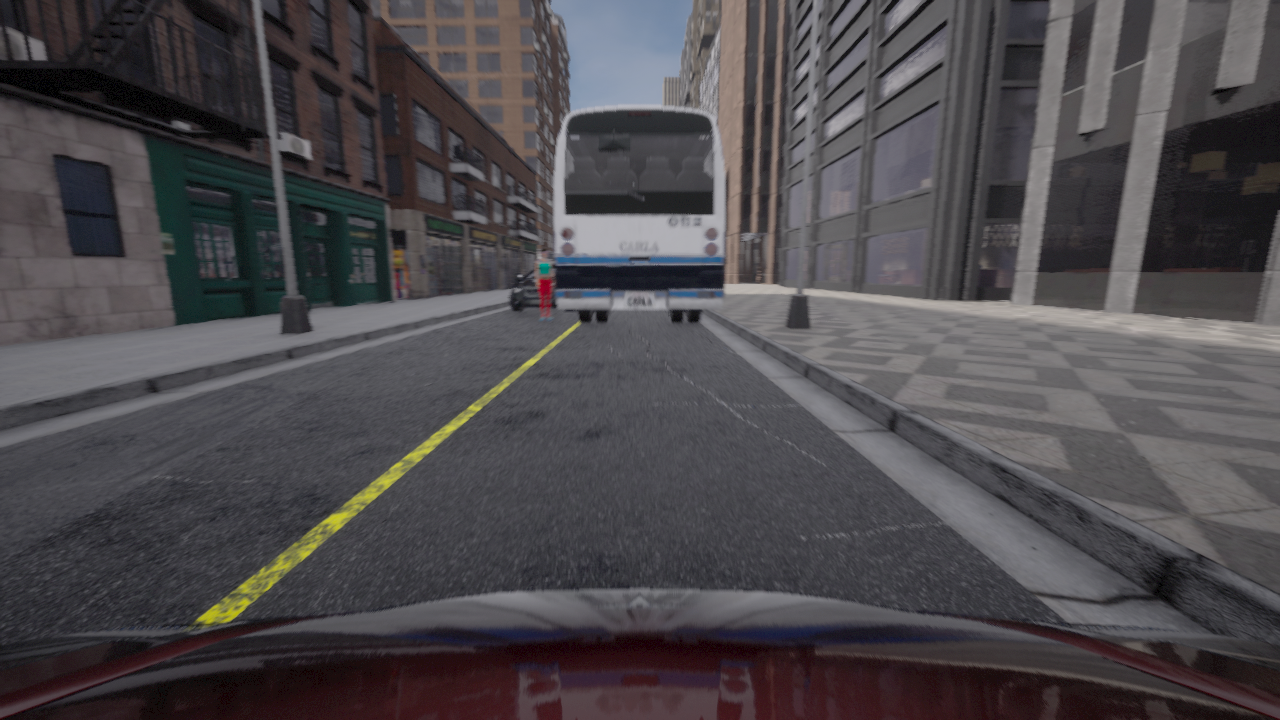cyclist: (0, 588, 1279, 719), (555, 105, 724, 322), (510, 264, 576, 312)
pedestrian: (535, 247, 554, 320)
